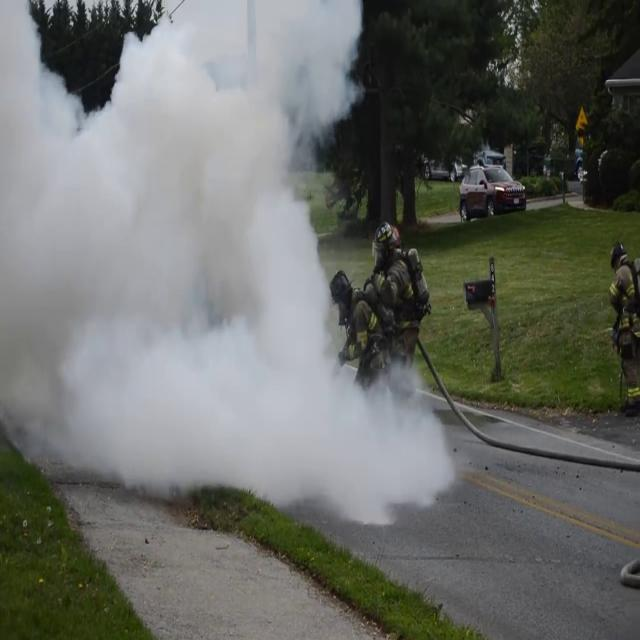Smoke: (0, 0, 438, 533)
